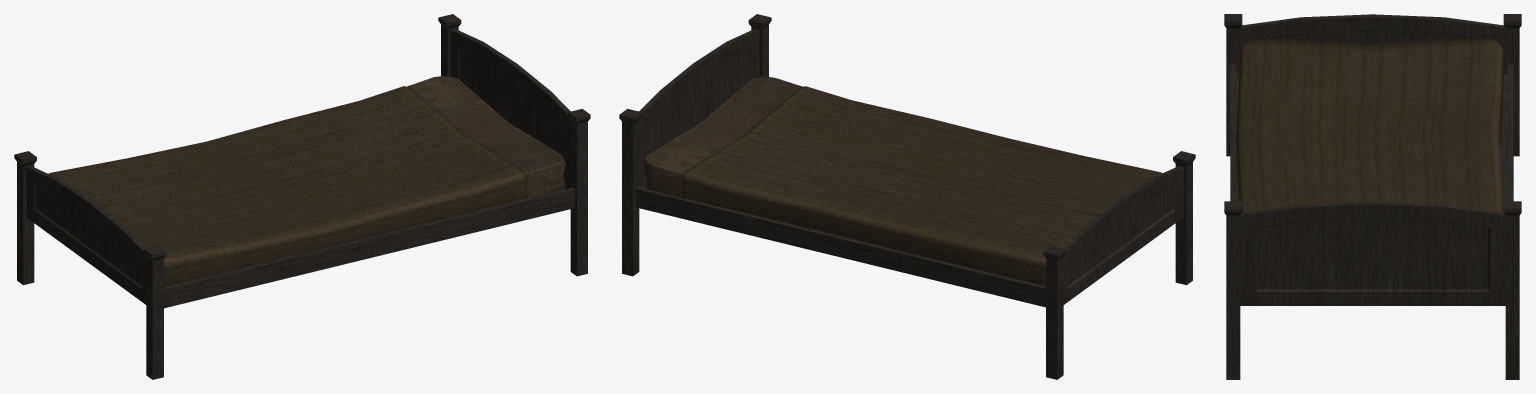
File: bed_5.obj
3 renders of one model, left to right at view 1: azimuth 30°, elevation 25°; view 2: azimuth 150°, elevation 25°; view 3: azimuth 270°, elevation 25°, orthographic. The views are drawn at different scales.
Parts seen in each view (by area): view 1: bed_5; view 2: bed_5; view 3: bed_5.
Part boxes in pixels (left/top/right/bottom): bed_5: left=14, top=14, right=590, bottom=379; bed_5: left=619, top=14, right=1195, bottom=379; bed_5: left=1224, top=14, right=1521, bottom=379.
Bounding box in the file's own units: 2.74 × 0.9621 × 1.49.
